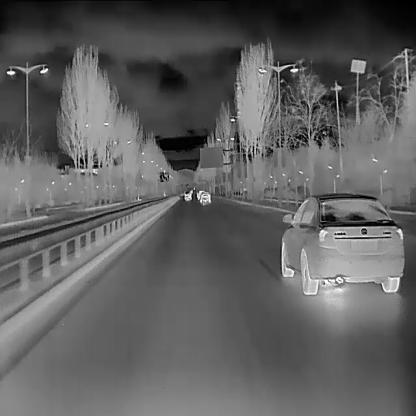car: (277, 190, 405, 295), (199, 190, 211, 203), (183, 190, 192, 200), (197, 189, 203, 199), (192, 186, 195, 189)
